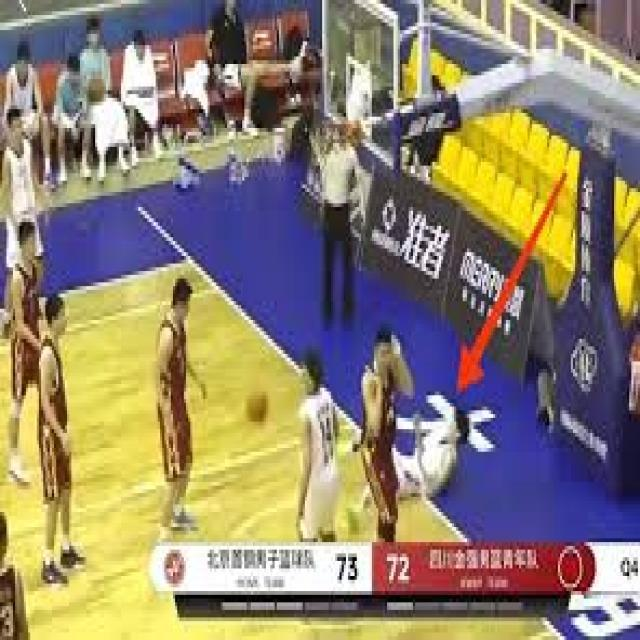rim: (246, 388, 268, 422)
